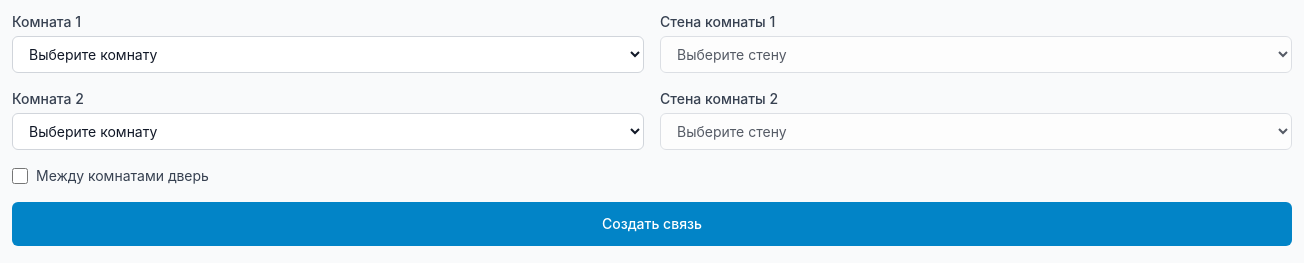
Test: AdjacencyForm › populates wall options based on selected room
Select "Living Room" in the dropdown below "Комната 1": (328, 54) x1=12 y1=36 x2=644 y2=73
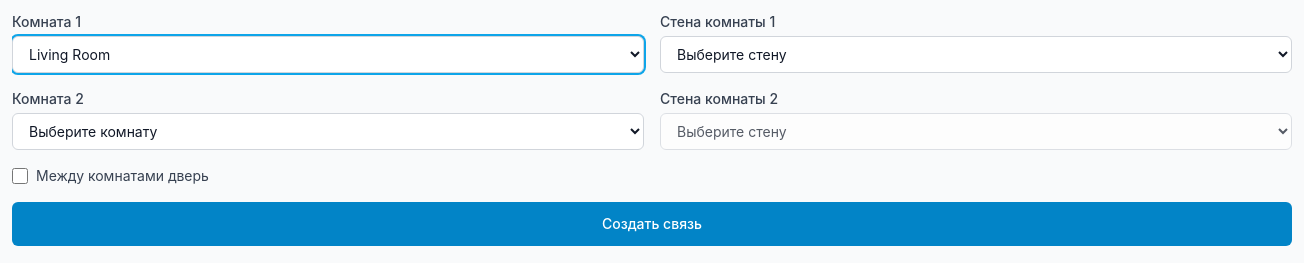
Check: the dropdown below "Стена комнаты 1" is enabled, box x1=660 y1=36 x2=1292 y2=73
